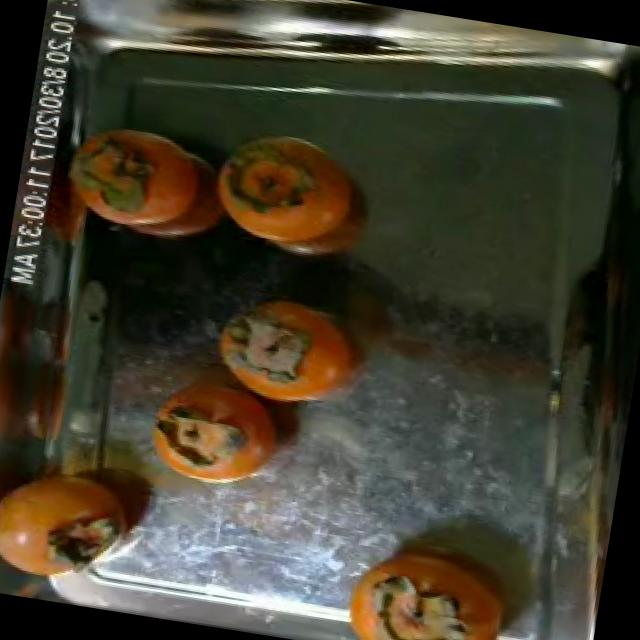Fruit: (190, 109, 399, 282), (131, 374, 305, 506)
